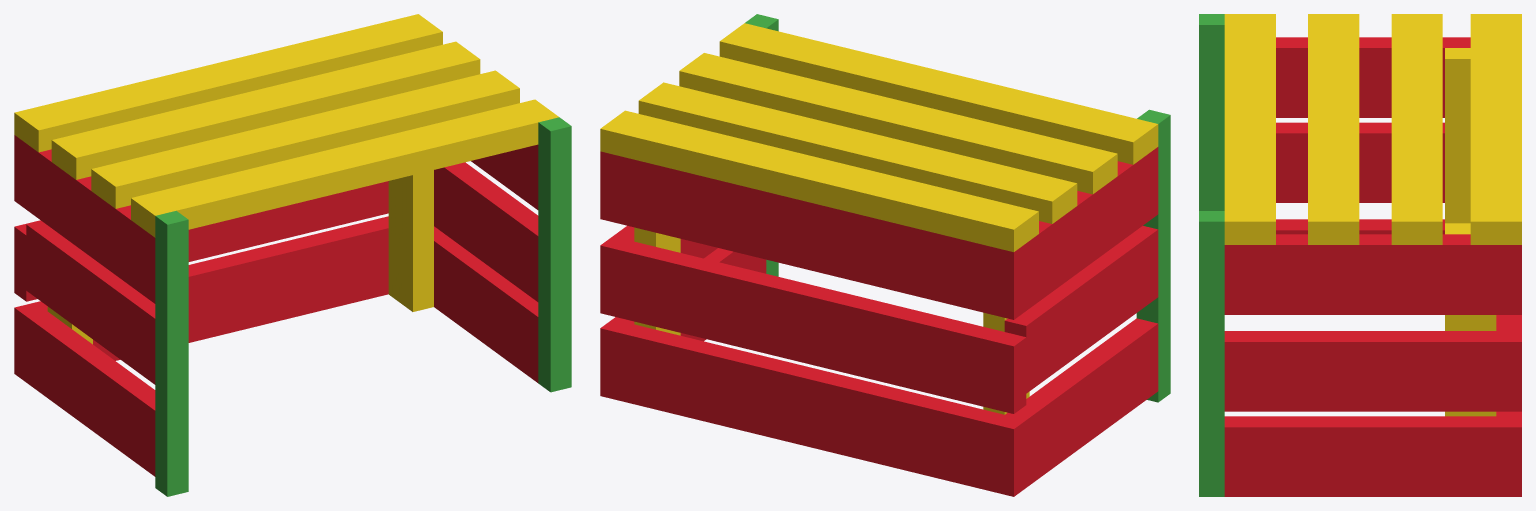
The model's file is tinker.obj.
3 renders of one model, left to right at view 1: azimuth 30°, elevation 25°; view 2: azimuth 150°, elevation 25°; view 3: azimuth 270°, elevation 25°, orthographic. The views are drawn at different scales.
Visible parts, largest first — view 1: group_0_15277357, group_0_16768282, group_0_4634441; view 2: group_0_15277357, group_0_16768282, group_0_4634441; view 3: group_0_15277357, group_0_16768282, group_0_4634441.
Part boxes in pixels (x1,y1,x2,y2): group_0_15277357: (14, 135, 538, 476); group_0_16768282: (14, 14, 558, 344); group_0_4634441: (155, 117, 571, 496); group_0_15277357: (600, 147, 1158, 496); group_0_16768282: (600, 23, 1158, 414); group_0_4634441: (745, 14, 1170, 402); group_0_15277357: (1224, 37, 1521, 496); group_0_16768282: (1224, 14, 1521, 416); group_0_4634441: (1199, 14, 1224, 496).
Size of the model in its own units: 230 by 148 by 151.
